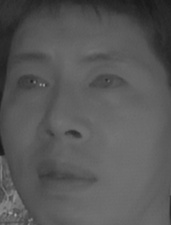eye: (87, 70, 126, 94), (15, 71, 50, 96)
mouth: (33, 155, 98, 195)
